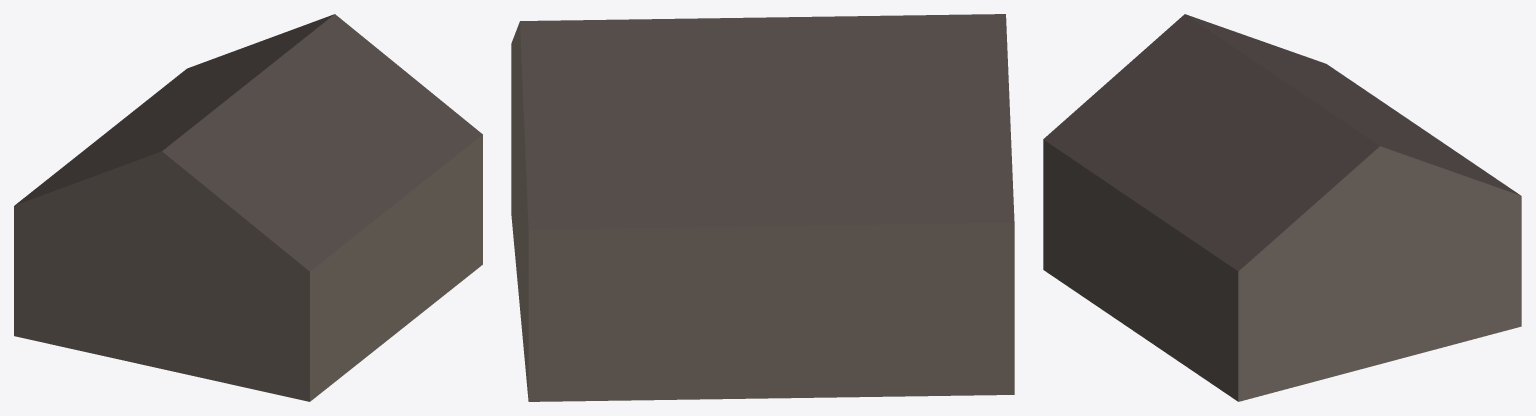
3 renders of one model, left to right at view 1: azimuth 30°, elevation 25°; view 2: azimuth 150°, elevation 25°; view 3: azimuth 270°, elevation 25°, orthographic. The views are drawn at different scales.
Parts seen in each view (by area): view 1: HP-w859088506; view 2: HP-w859088506; view 3: HP-w859088506.
Part boxes in pixels (x1,y1,x2,y2): HP-w859088506: [14, 14, 482, 401]; HP-w859088506: [511, 14, 1014, 401]; HP-w859088506: [1043, 14, 1521, 401].
Bounding box in the file's own units: 20.48 × 10.03 × 19.95.
